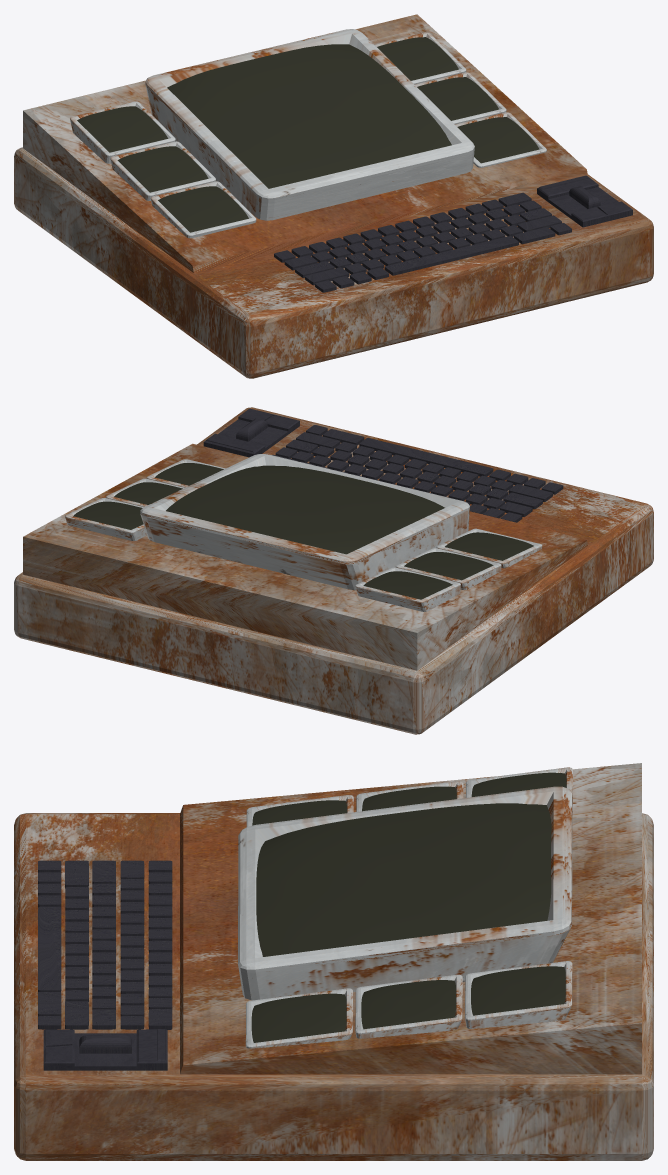
File: Console.glb
The picture shows the model from 3 angles, top to bottom: view 1: azimuth 30°, elevation 25°; view 2: azimuth 150°, elevation 25°; view 3: azimuth 270°, elevation 25°; orthographic projection. The views are drawn at different scales.
Parts seen in each view (by area): view 1: Plane, Cube.001, Cube.002, Curve.059, Cube.009, Cube.012, Cube.013, Plane.001, Cube.014, Cube.010, Cube.011; view 2: Plane, Cube.001, Cube.002, Curve.059, Cube.013, Cube.014, Plane.001, Cube.009, Cube.012, Cube.011, Cube.010; view 3: Plane, Cube.001, Cube.002, Curve.059, Cube.009, Cube.012, Cube.013, Plane.001, Cube.014, Cube.011, Cube.010.
Boxes of the visible parts, x1=… form: Plane: x1=14, y1=14, x2=653, y2=378; Cube.001: x1=167, y1=44, x2=451, y2=188; Cube.002: x1=145, y1=29, x2=474, y2=220; Curve.059: x1=274, y1=192, x2=571, y2=292; Cube.009: x1=158, y1=117, x2=539, y2=232; Cube.012: x1=117, y1=77, x2=498, y2=192; Cube.013: x1=77, y1=37, x2=458, y2=152; Plane.001: x1=537, y1=175, x2=632, y2=227; Cube.014: x1=70, y1=32, x2=466, y2=163; Cube.010: x1=150, y1=112, x2=546, y2=238; Cube.011: x1=110, y1=72, x2=506, y2=200; Plane: x1=14, y1=407, x2=653, y2=734; Cube.001: x1=166, y1=465, x2=444, y2=554; Cube.002: x1=140, y1=454, x2=469, y2=590; Curve.059: x1=272, y1=425, x2=563, y2=522; Cube.013: x1=73, y1=501, x2=452, y2=599; Cube.014: x1=65, y1=498, x2=460, y2=611; Plane.001: x1=203, y1=408, x2=299, y2=457; Cube.009: x1=155, y1=463, x2=533, y2=560; Cube.012: x1=114, y1=482, x2=493, y2=580; Cube.011: x1=105, y1=478, x2=501, y2=589; Cube.010: x1=146, y1=459, x2=542, y2=568; Plane: x1=14, y1=763, x2=653, y2=1160; Cube.001: x1=256, y1=803, x2=551, y2=956; Cube.002: x1=238, y1=786, x2=572, y2=1000; Curve.059: x1=38, y1=860, x2=172, y2=1029; Cube.009: x1=251, y1=800, x2=346, y2=1042; Cube.012: x1=361, y1=786, x2=456, y2=1029; Cube.013: x1=471, y1=772, x2=566, y2=1015; Plane.001: x1=43, y1=1029, x2=167, y2=1070; Cube.014: x1=465, y1=767, x2=572, y2=1028; Cube.011: x1=355, y1=781, x2=463, y2=1038; Cube.010: x1=245, y1=795, x2=353, y2=1048.
Size of the model in its own units: 2 by 0.6107 by 2.
6 materials, 3 textured.
